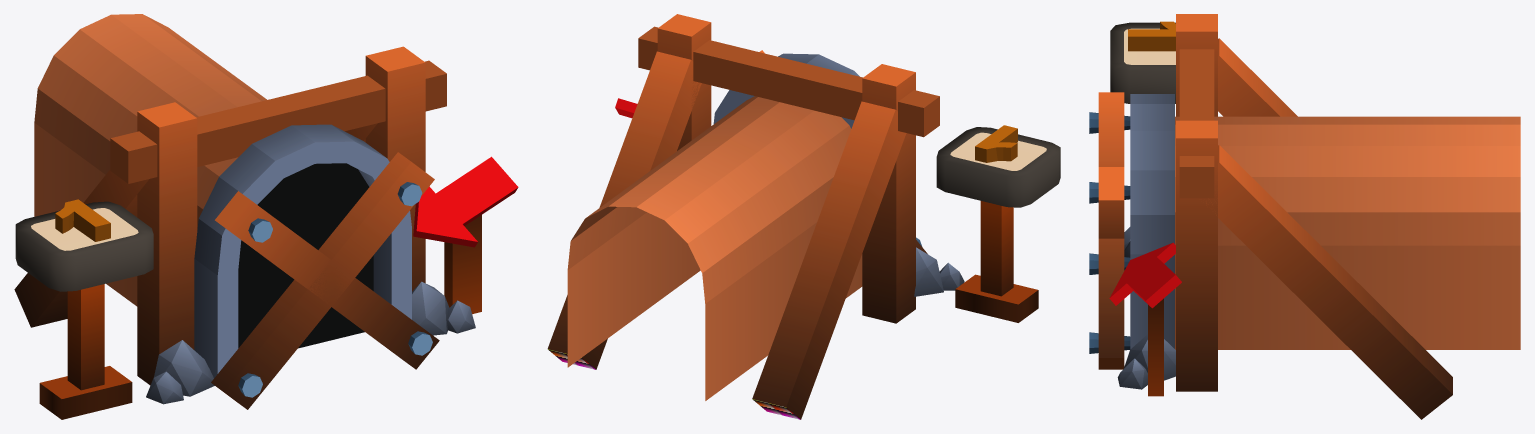
File: Red_1-ClosedEntry.fbx
3 views of the same model, side by side, from view 1: azimuth 30°, elevation 25°; view 2: azimuth 150°, elevation 25°; view 3: azimuth 270°, elevation 25° (orthographic). The views are drawn at different scales.
Parts seen in each view (by area): view 1: tunel.009, tunel.012, Text.011; view 2: tunel.009, Text.011; view 3: tunel.009, tunel.012, Text.011.
Part boxes in pixels (x1,y1,x2,y2): tunel.009: [14, 14, 481, 419]; tunel.012: [413, 156, 518, 247]; Text.011: [55, 199, 110, 241]; tunel.009: [547, 14, 1060, 419]; Text.011: [975, 125, 1017, 162]; tunel.009: [1089, 14, 1520, 419]; tunel.012: [1109, 242, 1181, 308]; Text.011: [1128, 21, 1175, 51].
Bounding box in the file's own units: 796 × 468 × 649.
